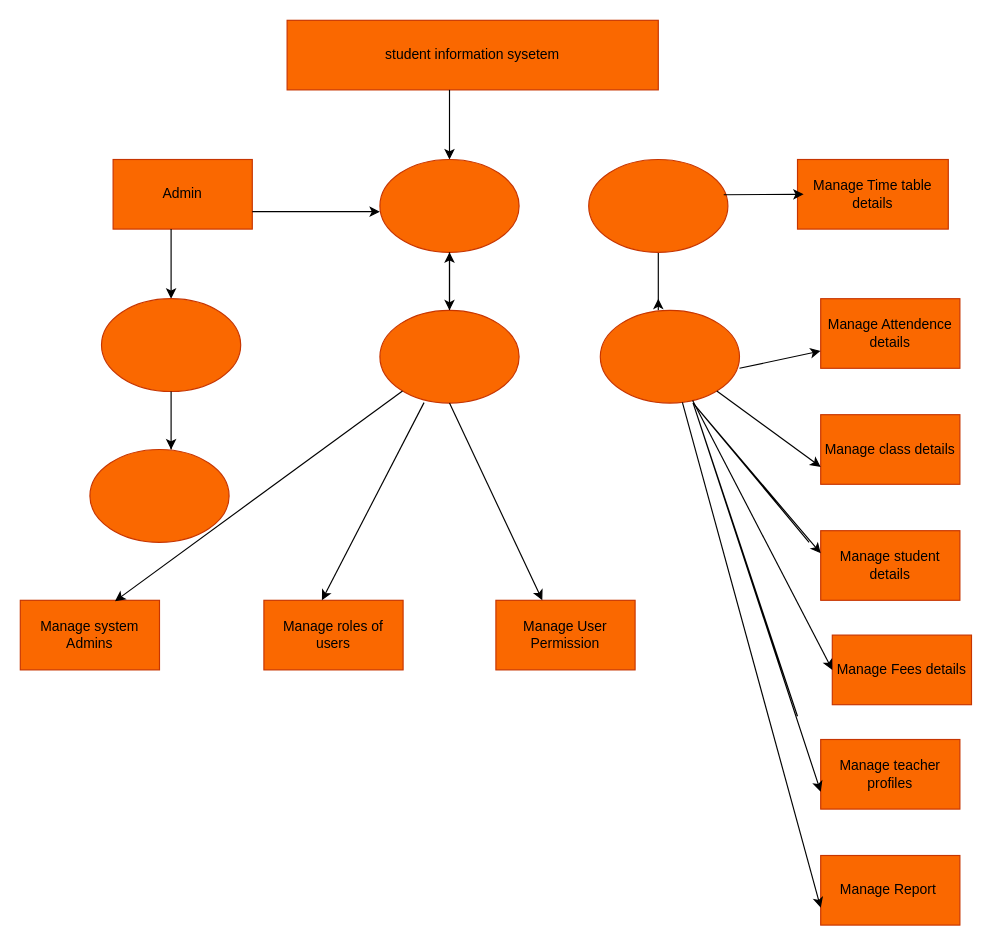
Image size: 992x945. Some labels were removed from this diagram. The centre of each missing label's shape, as x and y in pixels:
"Check credentials" belongs at (x=449, y=356).
"check roles of access" belongs at (x=658, y=205).
"Forgot Password" belongs at (x=170, y=345).
"Login to system" belongs at (x=449, y=205).
"Manage Modules" belongs at (x=669, y=356).
"Send Email to user" belongs at (x=159, y=495).
